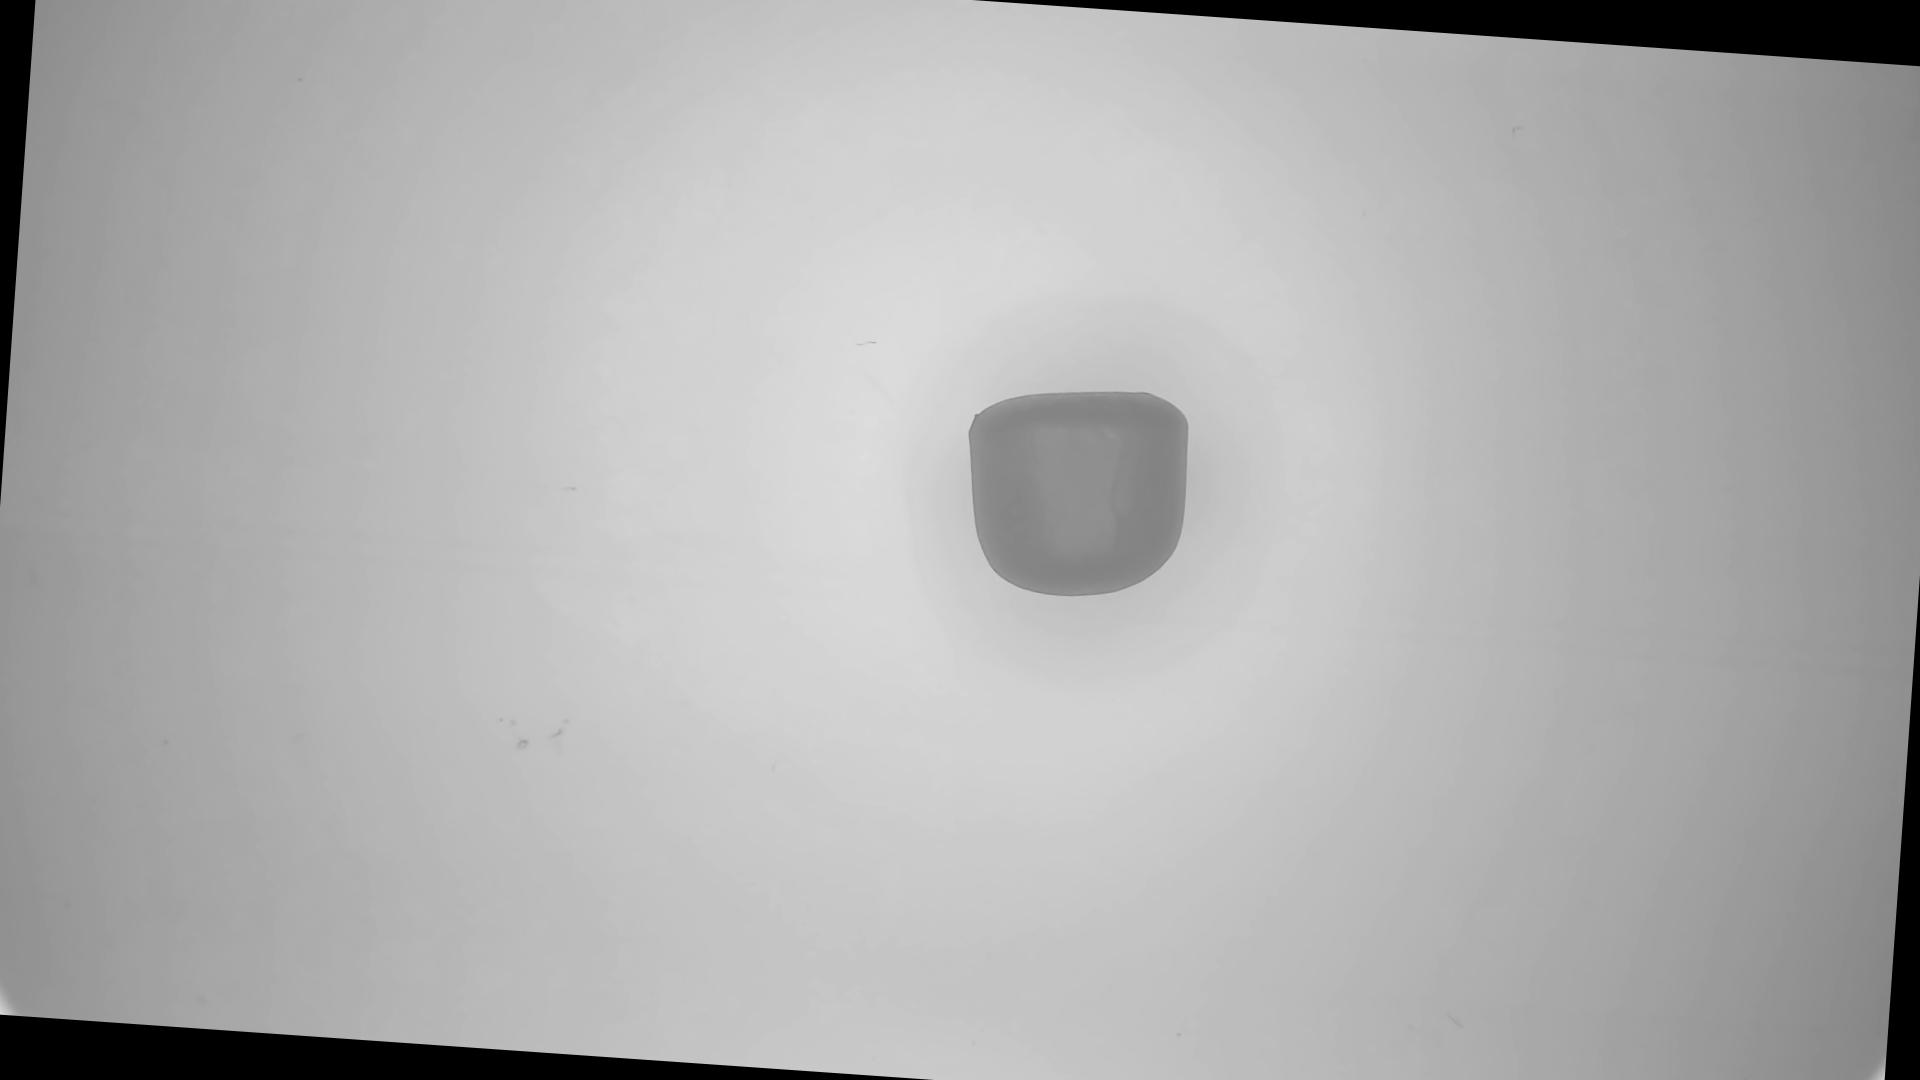normal: (959, 378, 1199, 609)
